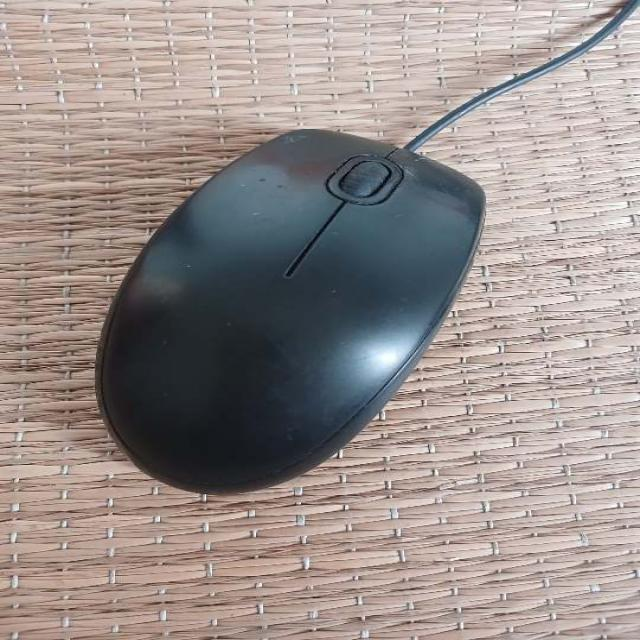mouse: (83, 122, 492, 500)
